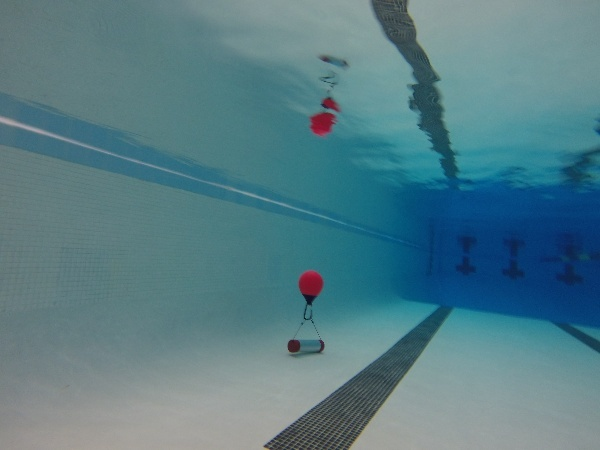buoy_red: (298, 270, 324, 305)
